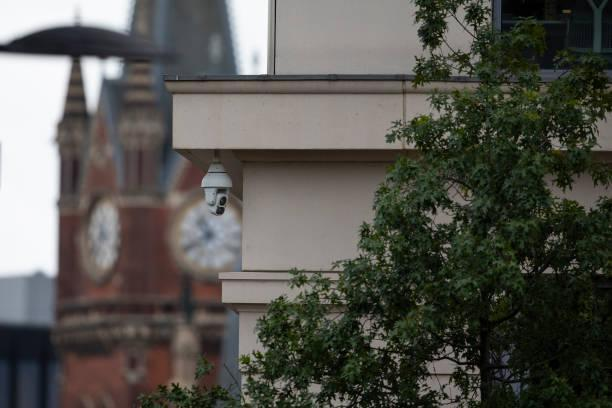camera: (174, 161, 247, 223)
